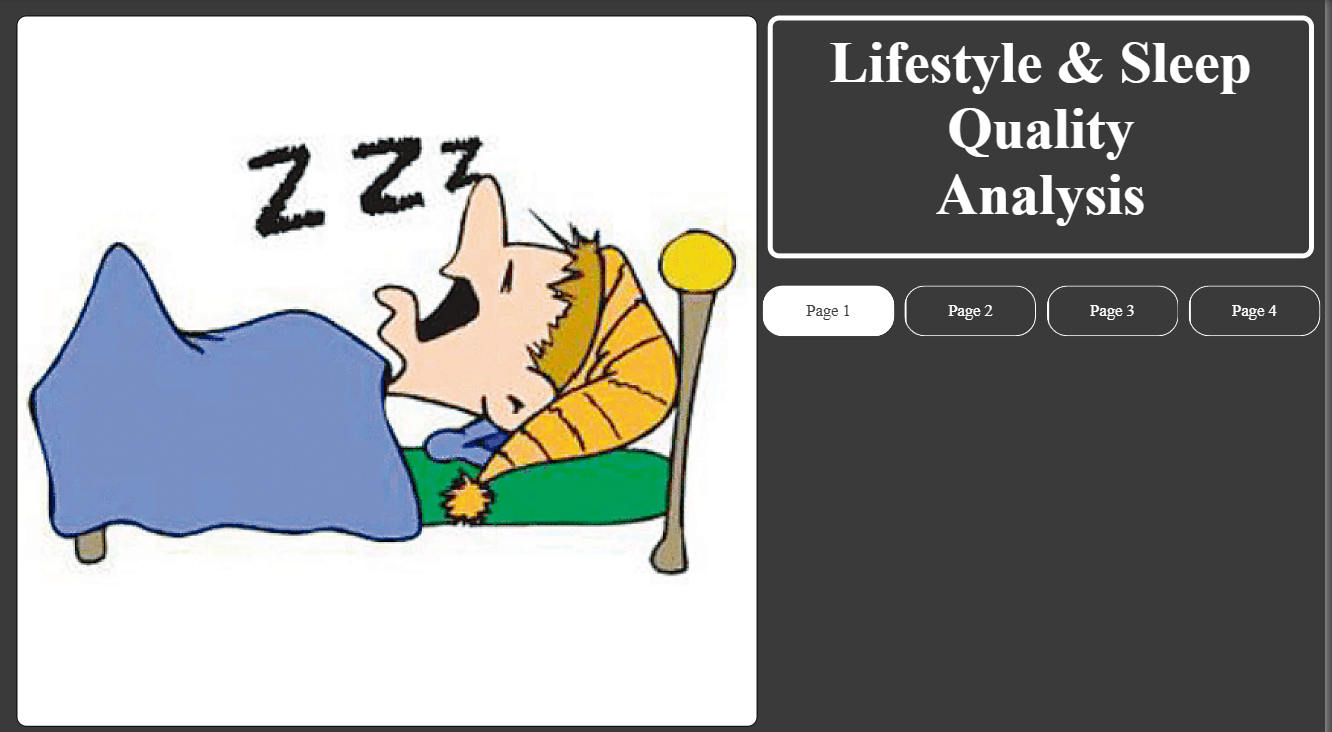

This screenshot's page, from the dashboard's own definition file:
{"tool":"powerbi","page":{"name":"Page 1","canvas":[1280,720],"ordinal":0},"visuals":[{"type":"textbox","box":[742,16.9,527.2,234],"z":0},{"type":"image","box":[16.9,16.9,715.4,686.5],"z":1000},{"type":"pageNavigator","box":[737.1,277.5,538.1,49.5],"z":2000}]}

Visuals, with their boxes in screenshot pixels (x1, y1, x2, y2), scaled from the page's 1280x720 canvas onto the 1332x732 screenshot:
textbox: rect(772, 17, 1321, 255)
image: rect(18, 17, 762, 715)
pageNavigator: rect(767, 282, 1327, 332)
